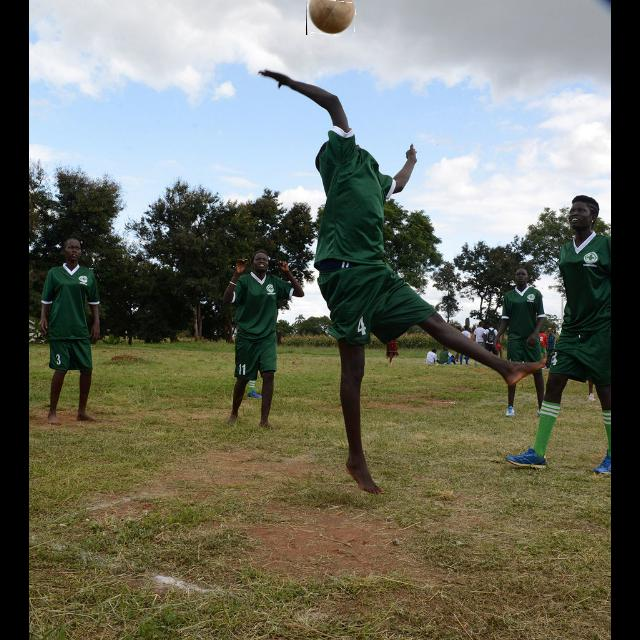Football: (306, 0, 355, 35)
